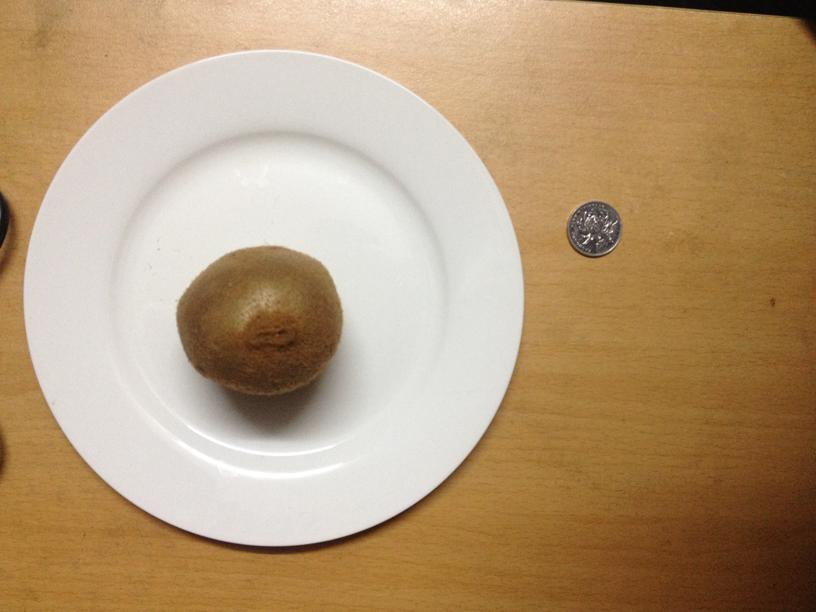coin: (567, 204, 624, 258)
qiwi: (172, 240, 341, 392)
